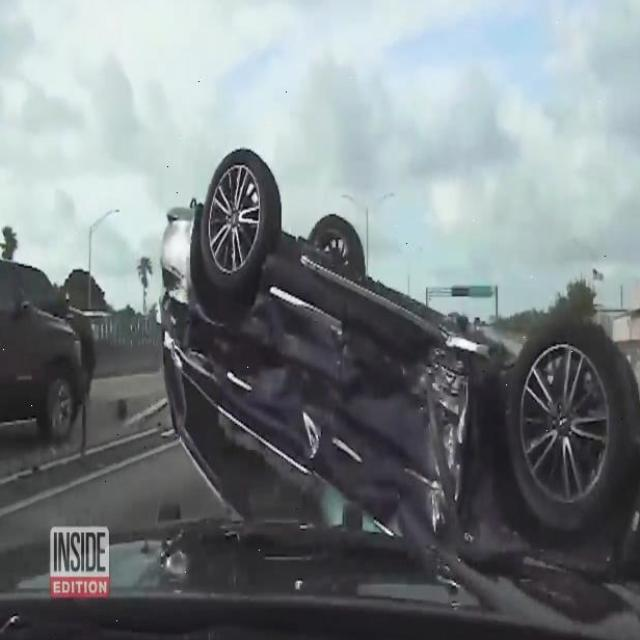accident: (156, 139, 640, 585)
